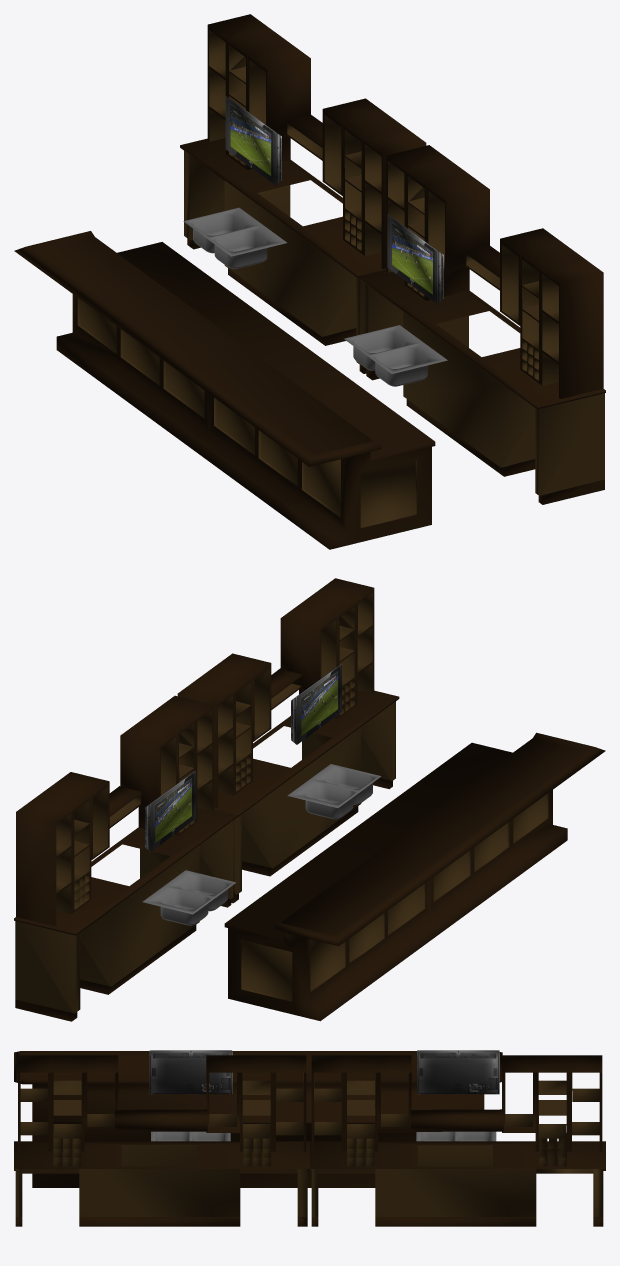
Rendered from bar.dae.
3 renders of one model, top to bottom at view 1: azimuth 30°, elevation 25°; view 2: azimuth 150°, elevation 25°; view 3: azimuth 270°, elevation 25°, orthographic. The views are drawn at different scales.
Visible parts, largest first — view 1: bar.1, unterbau.1, unterbau, bar, r.3, unterbau.3, l.3, unterbau.2, l.2, r.2, r.1, r (+8 smaller); view 2: bar.1, unterbau, unterbau.1, bar, l.2, unterbau.2, r.3, r.2, unterbau.3, l.3, l.1, l (+7 smaller); view 3: bar.1, unterbau, unterbau.1, unterbau.3, unterbau.2, fernseher.1, r.2, l.3, l.2, r.3, fernseher, l (+7 smaller).
Part boxes in pixels (x1,y1,x2,y2): bar.1: [14, 231, 435, 549]; unterbau.1: [363, 282, 604, 495]; unterbau: [184, 151, 362, 364]; bar: [77, 298, 416, 528]; r.3: [500, 228, 603, 398]; unterbau.3: [358, 269, 605, 504]; l.3: [386, 145, 489, 300]; unterbau.2: [180, 138, 385, 373]; l.2: [207, 14, 310, 169]; r.2: [322, 98, 426, 269]; r.1: [324, 115, 381, 255]; r: [502, 245, 558, 385]; bar.1: [224, 732, 605, 1021]; unterbau: [15, 820, 234, 1013]; unterbau.1: [234, 701, 395, 894]; bar: [241, 793, 548, 1001]; l.2: [16, 772, 109, 926]; unterbau.2: [14, 807, 237, 1021]; r.3: [280, 578, 374, 719]; r.2: [120, 695, 213, 836]; unterbau.3: [214, 690, 399, 903]; l.3: [177, 653, 271, 807]; l.1: [56, 787, 107, 913]; l: [218, 668, 269, 795]; bar.1: [14, 1051, 502, 1187]; unterbau: [311, 1145, 603, 1216]; unterbau.1: [15, 1145, 307, 1216]; unterbau.3: [14, 1141, 309, 1226]; unterbau.2: [310, 1141, 605, 1226]; fernseher.1: [417, 1050, 499, 1094]; r.2: [311, 1055, 411, 1151]; l.3: [206, 1055, 306, 1151]; l.2: [502, 1055, 602, 1151]; r.3: [18, 1055, 118, 1151]; fernseher: [149, 1050, 232, 1094]; l: [209, 1073, 303, 1166].
Bounding box in the file's own units: 55.55 × 39.01 × 116.
Materials: 4 (1 with a texture image).
